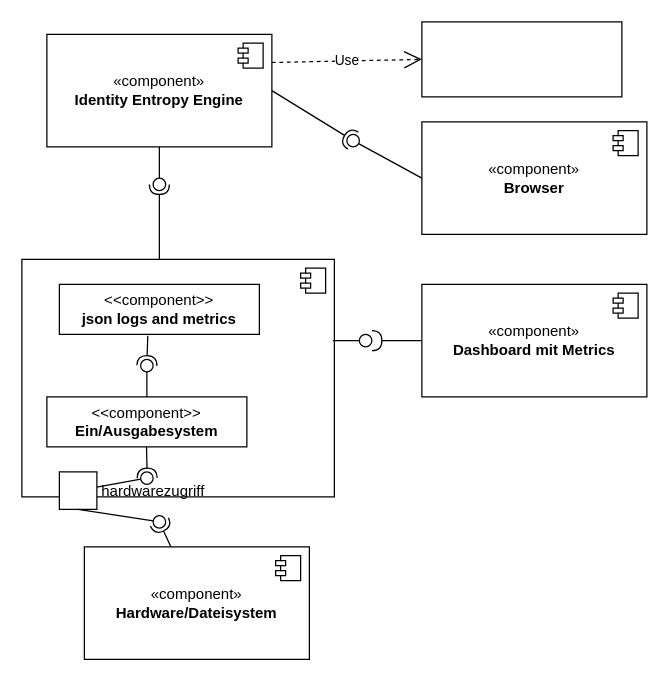
Some shapes in this 669 by 681 pixel diagram are drawn without their labels. The shapes that lost their labels are listed below. From the top down, each one's box as (x1, y1, x2, y2) in pixels, then its label:
(421, 21, 622, 97): <<artifact>> Wörterbuch
(21, 258, 334, 497): «component» Datenbank
